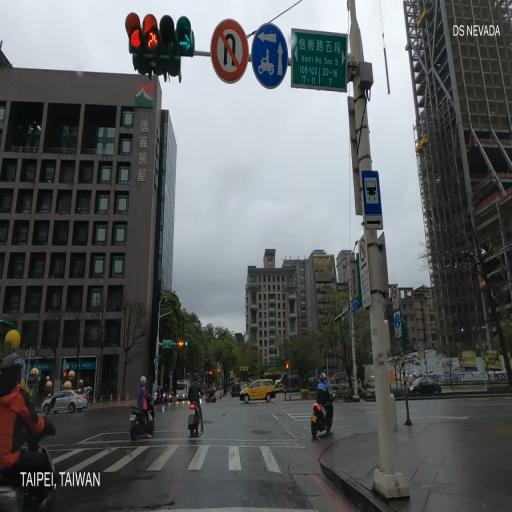Car: (37, 388, 87, 420), (239, 376, 275, 407), (408, 374, 442, 399), (172, 375, 192, 406), (233, 373, 253, 394), (279, 371, 300, 389)
